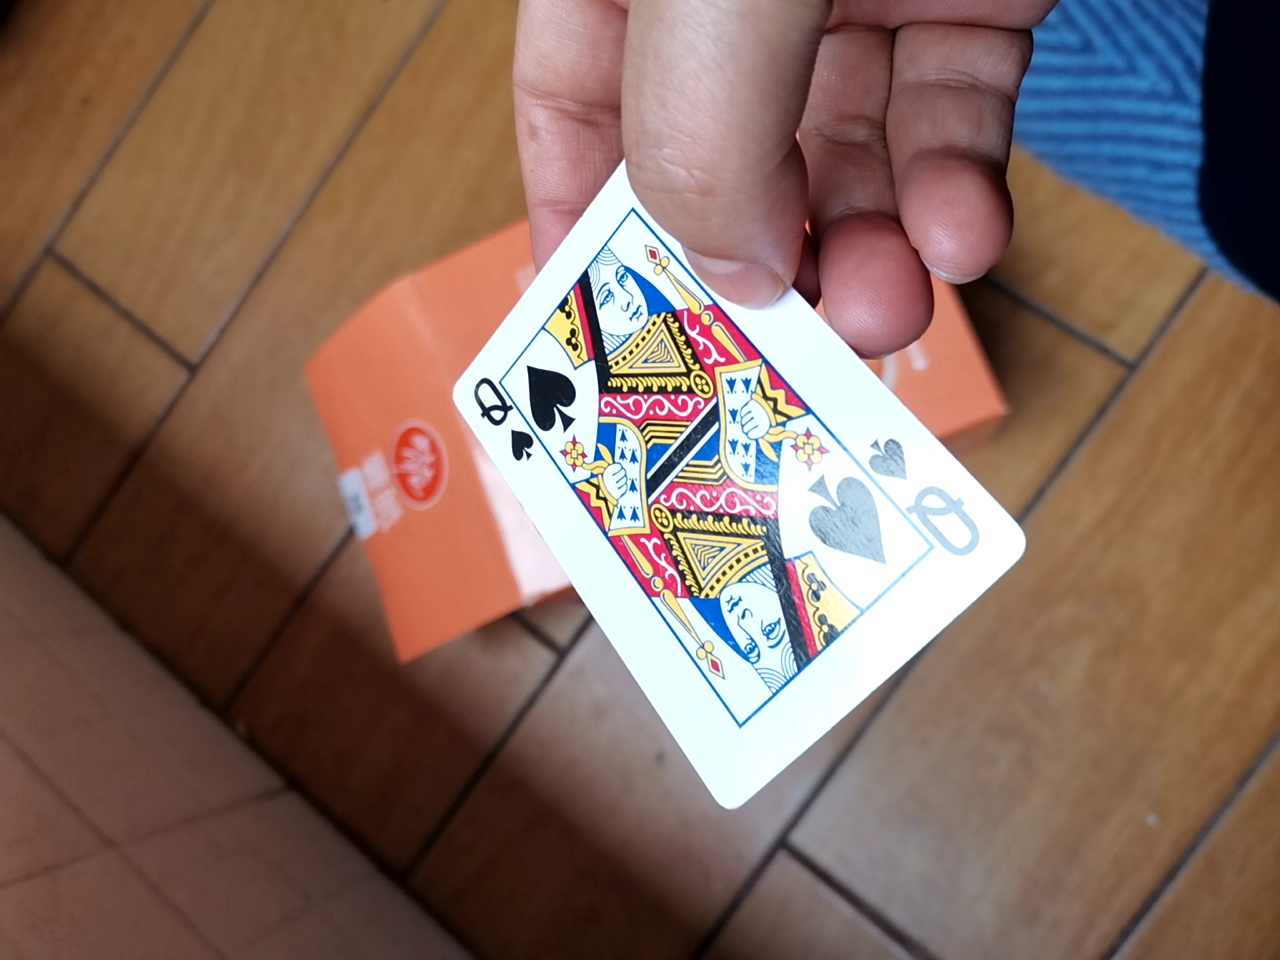ht q: (412, 158, 1014, 848)
